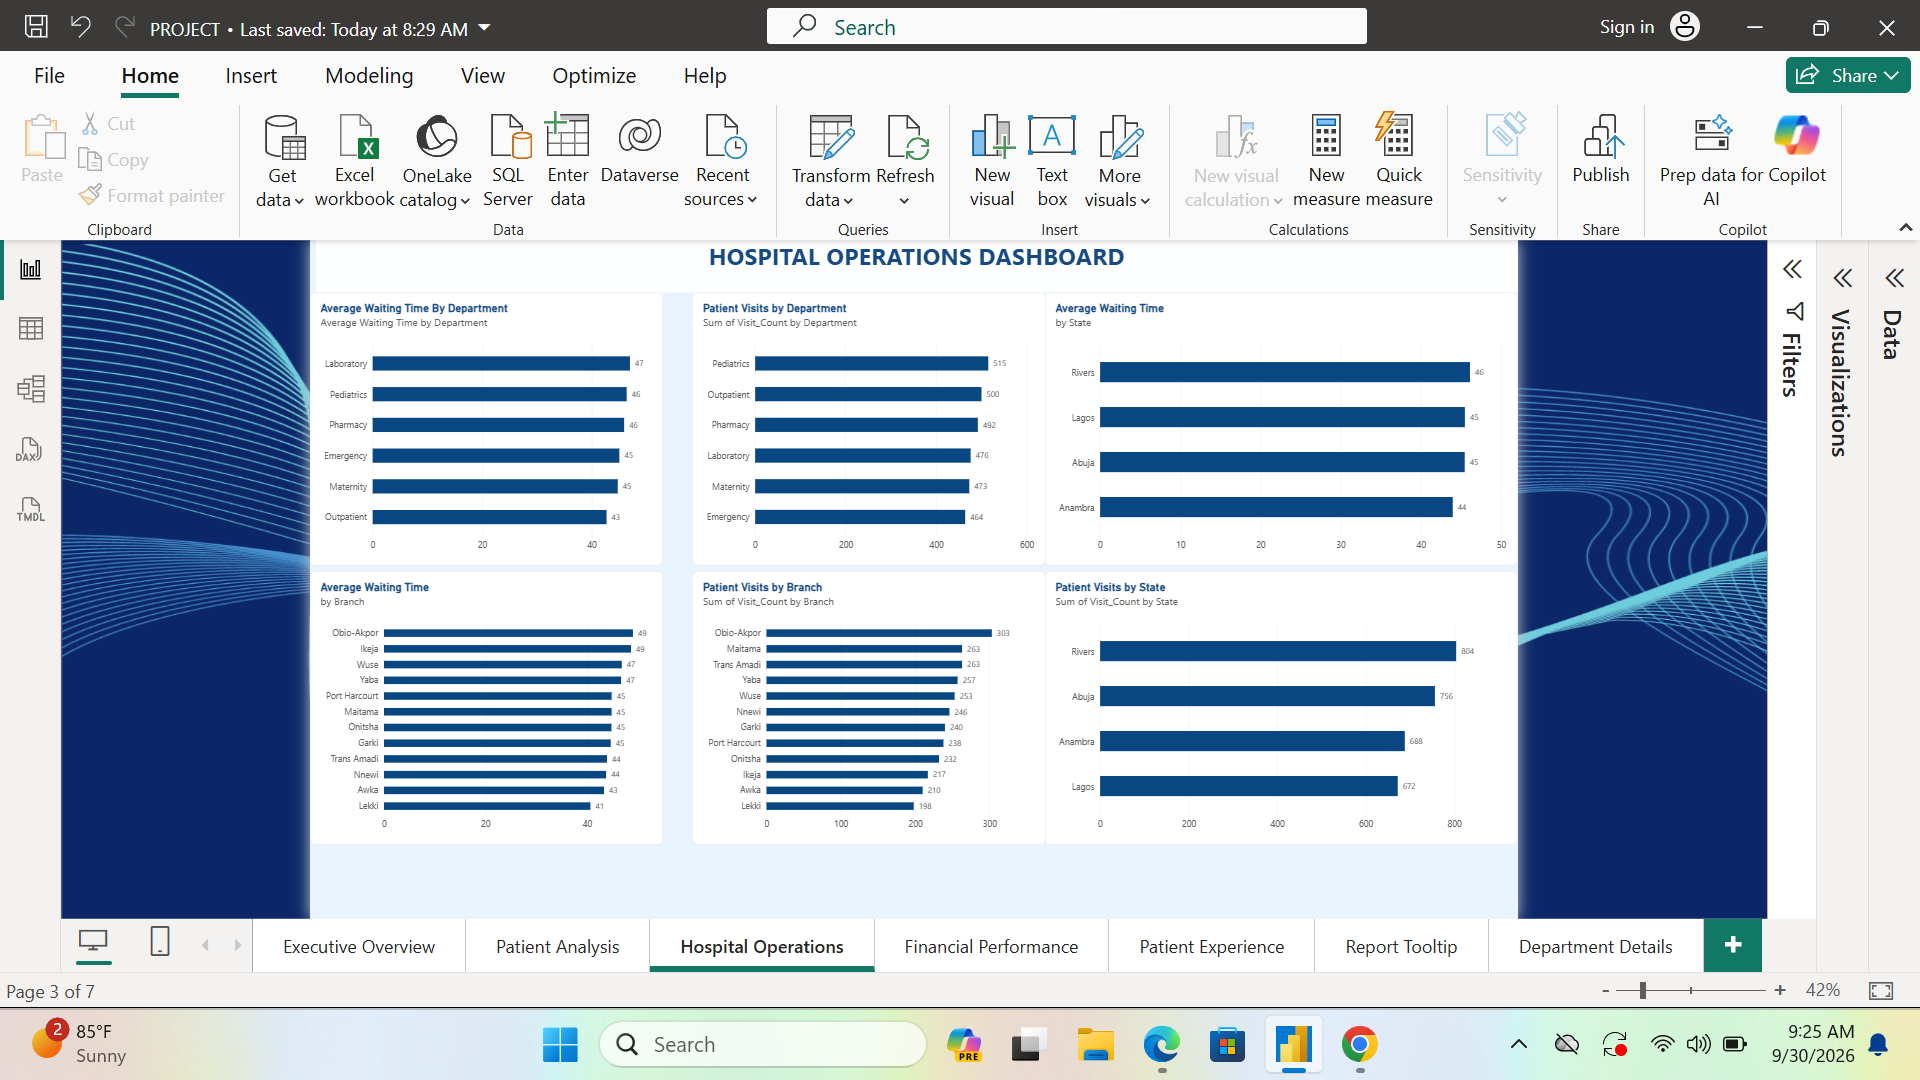

Layout of this report page (visuals, bound fields, positions):
{"tool":"powerbi","page":{"name":"Hospital Operations","canvas":[1920,1080],"ordinal":2},"visuals":[{"type":"textbox","box":[9.5,0,1911.1,83.5],"z":0},{"type":"clusteredBarChart","title":"Average Waiting Time By Department","fields":{"Category":["Patient_Visits.Department"],"Y":["Patient_Visits.Average Waiting Time"]},"box":[0,83.5,560.7,434.2],"z":1000},{"type":"clusteredBarChart","title":"Patient Visits by Department","fields":{"Category":["Patient_Visits.Department"],"Y":["Sum(Patient_Visits.Visit_Count)"]},"box":[608.4,83.5,561,434],"z":2000},{"type":"clusteredBarChart","fields":{"Category":["Patient_Visits.Branch"],"Y":["Patient_Visits.Average Waiting Time"]},"box":[0,528,561,434],"z":3000},{"type":"clusteredBarChart","title":"Patient Visits by Branch","fields":{"Category":["Patient_Visits.Branch"],"Y":["Sum(Patient_Visits.Visit_Count)"]},"box":[608,528,561,434],"z":4000},{"type":"clusteredBarChart","fields":{"Category":["Patient_Visits.State"],"Y":["Patient_Visits.Average Waiting Time"]},"box":[1169,84,751,434],"z":5000},{"type":"clusteredBarChart","title":"Patient Visits by State","fields":{"Category":["Patient_Visits.State"],"Y":["Sum(Patient_Visits.Visit_Count)"]},"box":[1169,528,751,434],"z":6000}]}

Visuals, with their boxes on the page's 1920x1080 design canvas (x1, y1, x2, y2). These are canvas units, not pixel positions in the 1920x1080 screenshot, which may show the page scaled, cropped or inside an application window:
textbox: <region>10, 0, 1921, 84</region>
"Average Waiting Time By Department" clusteredBarChart: <region>0, 84, 561, 518</region>
"Patient Visits by Department" clusteredBarChart: <region>608, 84, 1169, 518</region>
clusteredBarChart - Patient_Visits.Branch x Patient_Visits.Average Waiting Time: <region>0, 528, 561, 962</region>
"Patient Visits by Branch" clusteredBarChart: <region>608, 528, 1169, 962</region>
clusteredBarChart - Patient_Visits.State x Patient_Visits.Average Waiting Time: <region>1169, 84, 1920, 518</region>
"Patient Visits by State" clusteredBarChart: <region>1169, 528, 1920, 962</region>
